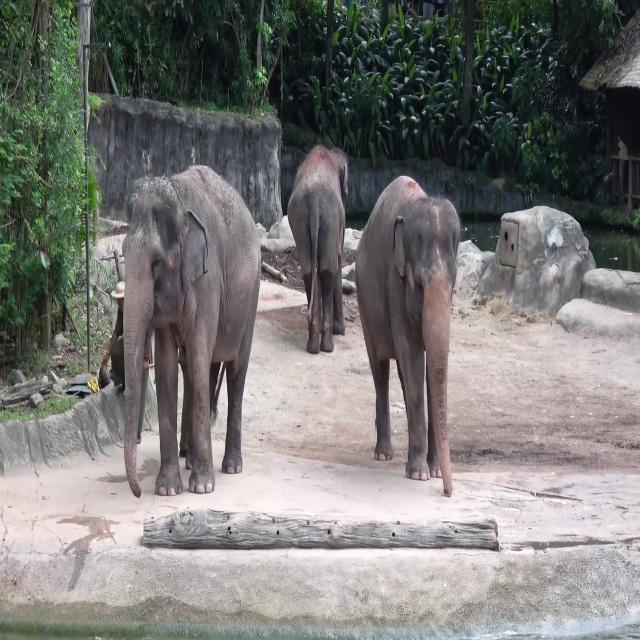Elephant: (121, 163, 262, 498), (354, 174, 460, 497), (287, 143, 348, 354)
